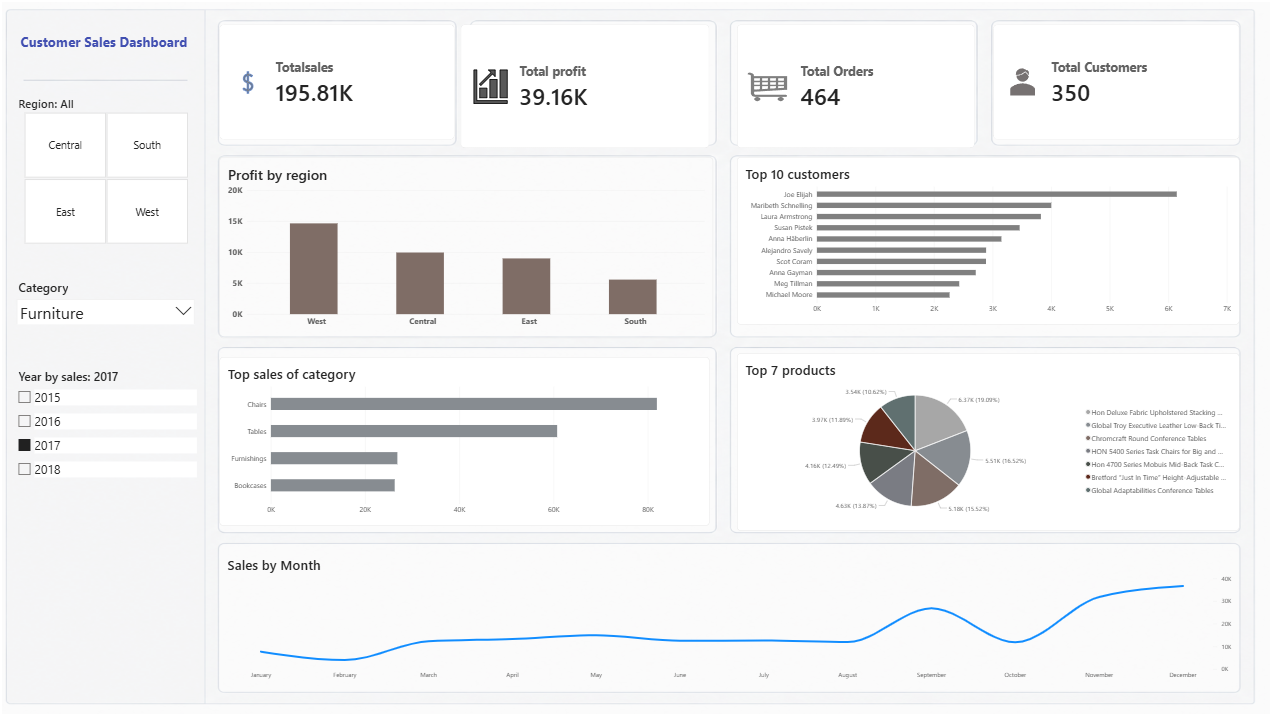

What the dashboard file says about the page in this screenshot:
{"tool":"powerbi","page":{"name":"Page 1","canvas":[2560,1440],"ordinal":0},"visuals":[{"type":"cardVisual","fields":{"Data":["Data.TotalProfit"]},"box":[455,55,470,230],"z":0},{"type":"cardVisual","fields":{"Data":["Data.Total Orders"]},"box":[1490,55,475,247.5],"z":1000},{"type":"cardVisual","fields":{"Data":["Data.Total Customers"]},"box":[2002.5,55,492.5,230],"z":2000},{"type":"lineChart","title":"Sales by Month","fields":{"Category":["Data.Order Date.Variation.Date Hierarchy.Month"],"Y2":["Sum(Data.Sales)"]},"box":[455,1102.5,2040,282.5],"z":3000},{"type":"barChart","title":"Top sales of category","fields":{"Category":["Data.Sub-Category"],"Y":["Sum(Data.Sales)"]},"box":[455,720,980,337.5],"z":4000},{"type":"columnChart","title":"Profit by region","fields":{"Category":["Data.Region"],"Y":["Sum(Data.Profit)"]},"box":[455,320,987.5,362.5],"z":5000},{"type":"barChart","title":"Top 10 customers","fields":{"Category":["Data.Customer Name"],"Y":["Sum(Data.Sales)"]},"box":[1490,320,1005,335],"z":6000},{"type":"slicer","fields":{"Values":["Data.Region"]},"box":[45,197.5,365,297.5],"z":7000},{"type":"slicer","fields":{"Values":["Data.Category"]},"box":[45,552.5,365,102.5],"z":8000},{"type":"slicer","fields":{"Values":["Data.Order Date.Variation.Date Hierarchy.Year"]},"box":[45,742.5,365,235],"z":9000},{"type":"pieChart","title":"Top 7 products","fields":{"Category":["Data.Product Name"],"Y":["Sum(Data.Sales)"]},"box":[1490,712.5,1005,355],"z":10000},{"type":"textbox","box":[45,1103,365,283],"z":11000},{"type":"cardVisual","fields":{"Data":["Data.Total profit"]},"box":[937.5,55,497.5,247.5],"z":12000},{"type":"textbox","box":[20,55,412.5,87.5],"z":13000}]}

Visuals, with their boxes in screenshot pixels (x1, y1, x2, y2), scaled from the page's 2560x1440 canvas onto the 1272x716 screenshot:
cardVisual - Data.TotalProfit: (226, 27, 460, 142)
cardVisual - Data.Total Orders: (740, 27, 976, 150)
cardVisual - Data.Total Customers: (995, 27, 1240, 142)
"Sales by Month" lineChart: (226, 548, 1240, 689)
"Top sales of category" barChart: (226, 358, 713, 526)
"Profit by region" columnChart: (226, 159, 717, 339)
"Top 10 customers" barChart: (740, 159, 1240, 326)
slicer - Data.Region: (22, 98, 204, 246)
slicer - Data.Category: (22, 275, 204, 326)
slicer - Data.Order Date.Variation.Date Hierarchy.Year: (22, 369, 204, 486)
"Top 7 products" pieChart: (740, 354, 1240, 531)
textbox: (22, 548, 204, 689)
cardVisual - Data.Total profit: (466, 27, 713, 150)
textbox: (10, 27, 215, 71)
